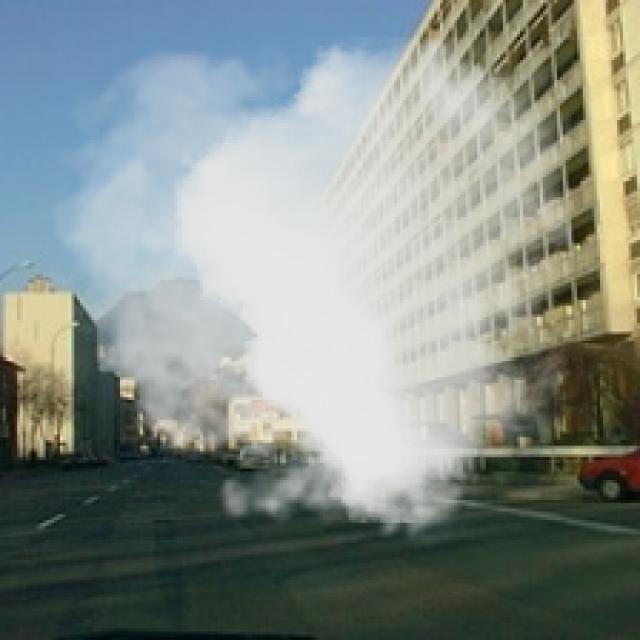smoke: (34, 37, 572, 554)
